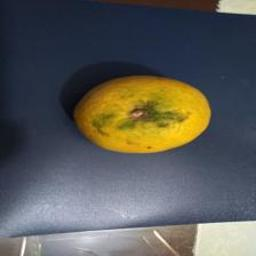Orange Semifresh: (57, 72, 251, 171)
